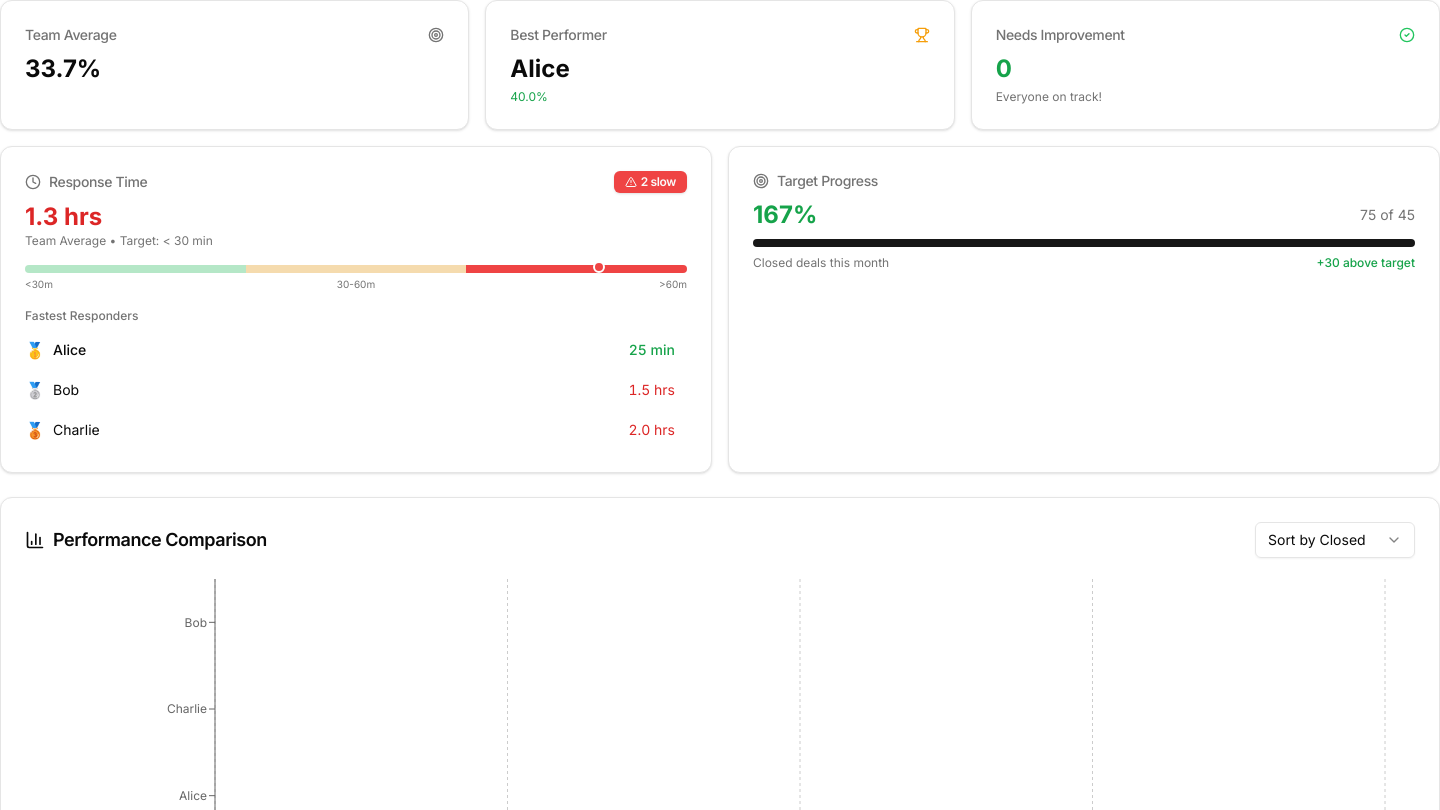
PerformanceTableContainer › Filter Slow Responders (Story 3.4) › shows slow responders filter indicator when slow badge is clicked
The width and height of the screenshot is (1440, 810).
// Click slow responders badge
Click the button with test id "slow-responders-badge": (650, 182) [614,171,687,193]
(page scrolled)
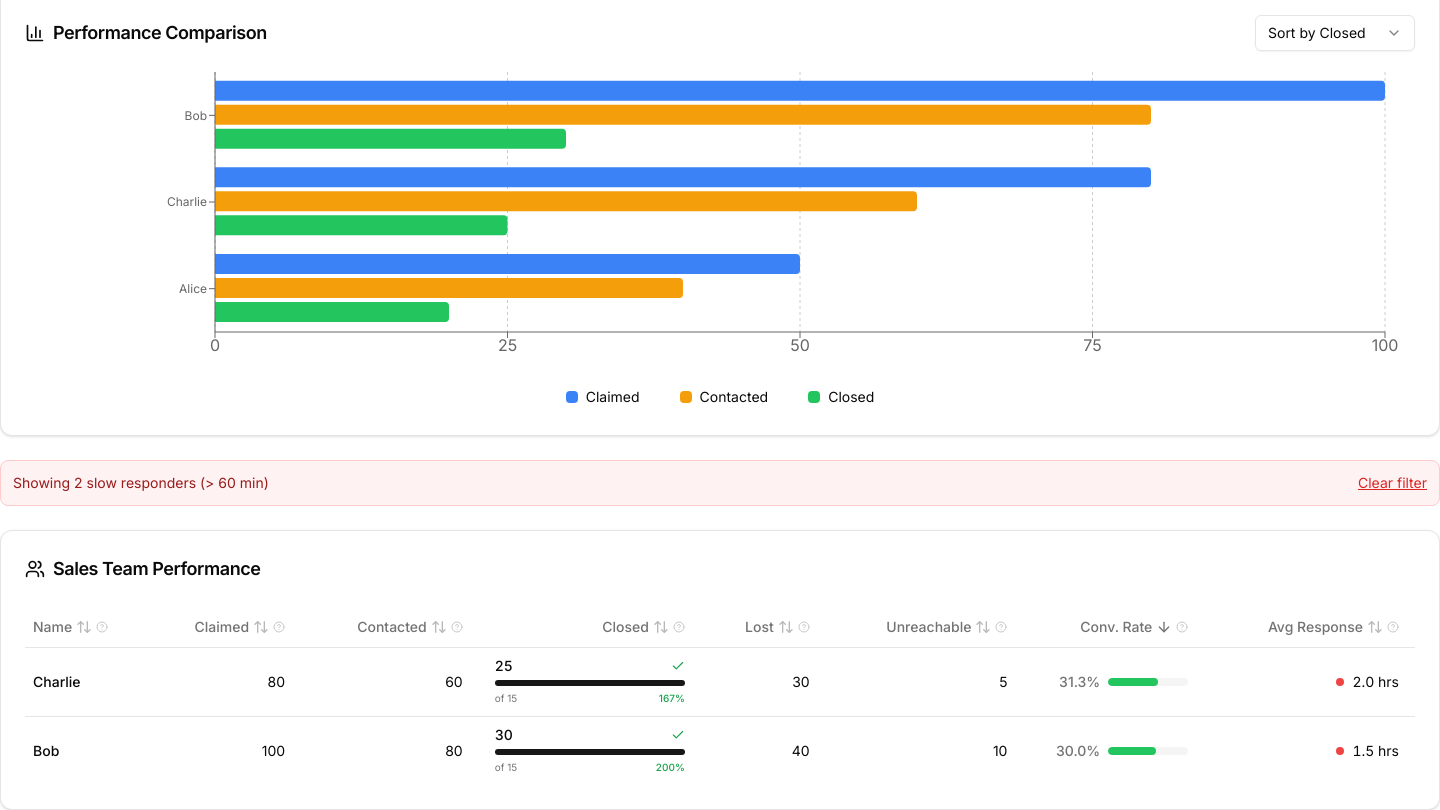
Expected: the element with test id "slow-responders-filter-indicator" is shown, [0,460,1439,506]
Expected: the text "Showing 2 slow responders (> 60 min)" is shown, [13,473,269,493]
